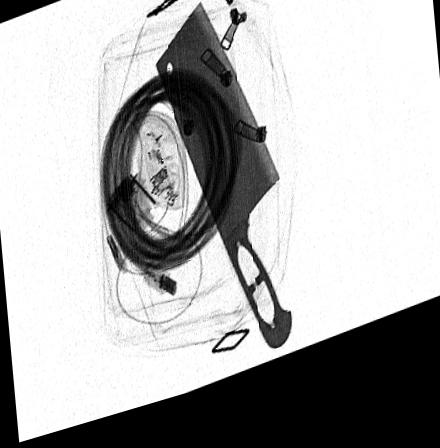Knife: (153, 10, 292, 367)
